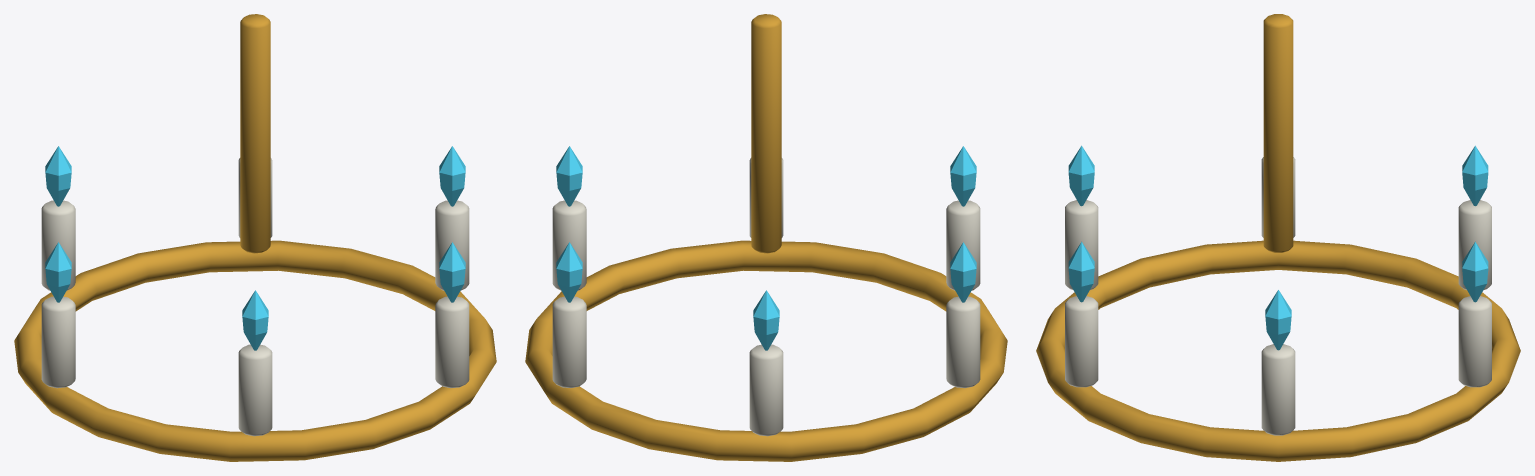
Rendered from vintage_chandelier.obj.
3 views of the same model, side by side, from view 1: azimuth 30°, elevation 25°; view 2: azimuth 150°, elevation 25°; view 3: azimuth 270°, elevation 25° (orthographic).
Visible parts, largest first — view 1: Ring, Chain, Candle_4, Candle_3, Candle_5, Candle_0, Candle_2, Flame_0, Flame_2, Flame_3, Flame_5, Flame_4; view 2: Ring, Chain, Candle_2, Candle_3, Candle_1, Candle_0, Candle_4, Flame_0, Flame_4, Flame_1, Flame_3, Flame_2; view 3: Ring, Chain, Candle_0, Candle_1, Candle_5, Candle_2, Candle_4, Flame_0, Flame_2, Flame_4, Flame_1, Flame_5.
Boxes of the visible parts, bbox=[...] form: Ring: bbox=[14, 240, 496, 461]; Chain: bbox=[240, 14, 270, 253]; Candle_4: bbox=[238, 344, 272, 436]; Candle_3: bbox=[41, 296, 75, 388]; Candle_5: bbox=[435, 296, 469, 388]; Candle_0: bbox=[435, 200, 469, 290]; Candle_2: bbox=[41, 200, 75, 290]; Flame_0: bbox=[439, 146, 465, 206]; Flame_2: bbox=[45, 146, 71, 206]; Flame_3: bbox=[45, 242, 71, 302]; Flame_5: bbox=[439, 242, 465, 302]; Flame_4: bbox=[242, 290, 268, 350]; Ring: bbox=[525, 240, 1007, 461]; Chain: bbox=[751, 14, 781, 253]; Candle_2: bbox=[749, 344, 783, 436]; Candle_3: bbox=[946, 296, 980, 388]; Candle_1: bbox=[552, 296, 586, 388]; Candle_0: bbox=[552, 200, 586, 290]; Candle_4: bbox=[946, 200, 980, 290]; Flame_0: bbox=[556, 146, 582, 206]; Flame_4: bbox=[950, 146, 976, 206]; Flame_1: bbox=[556, 242, 582, 302]; Flame_3: bbox=[950, 242, 976, 302]; Flame_2: bbox=[753, 290, 779, 350]; Ring: bbox=[1036, 240, 1520, 461]; Chain: bbox=[1263, 14, 1293, 252]; Candle_0: bbox=[1261, 344, 1295, 435]; Candle_1: bbox=[1458, 296, 1491, 387]; Candle_5: bbox=[1065, 296, 1098, 387]; Candle_2: bbox=[1458, 200, 1491, 290]; Candle_4: bbox=[1065, 200, 1098, 290]; Flame_0: bbox=[1265, 290, 1291, 350]; Flame_2: bbox=[1462, 145, 1488, 206]; Flame_4: bbox=[1068, 145, 1094, 206]; Flame_1: bbox=[1462, 241, 1488, 302]; Flame_5: bbox=[1068, 241, 1094, 302].
Bounding box in the file's own units: 0.7733 × 0.6008 × 0.768.
